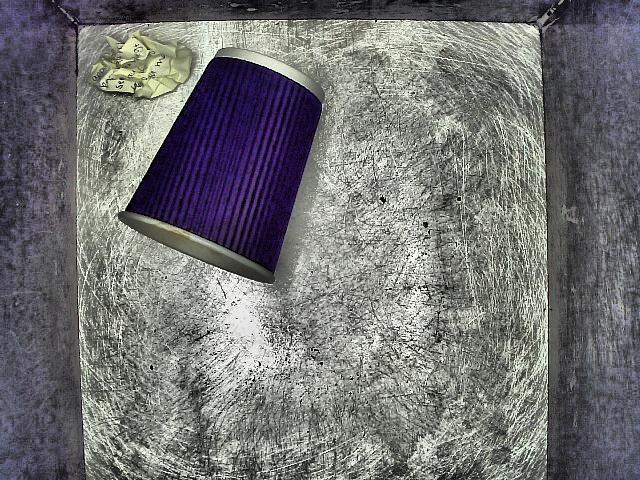Paper: (128, 44, 316, 314), (87, 34, 198, 105)
